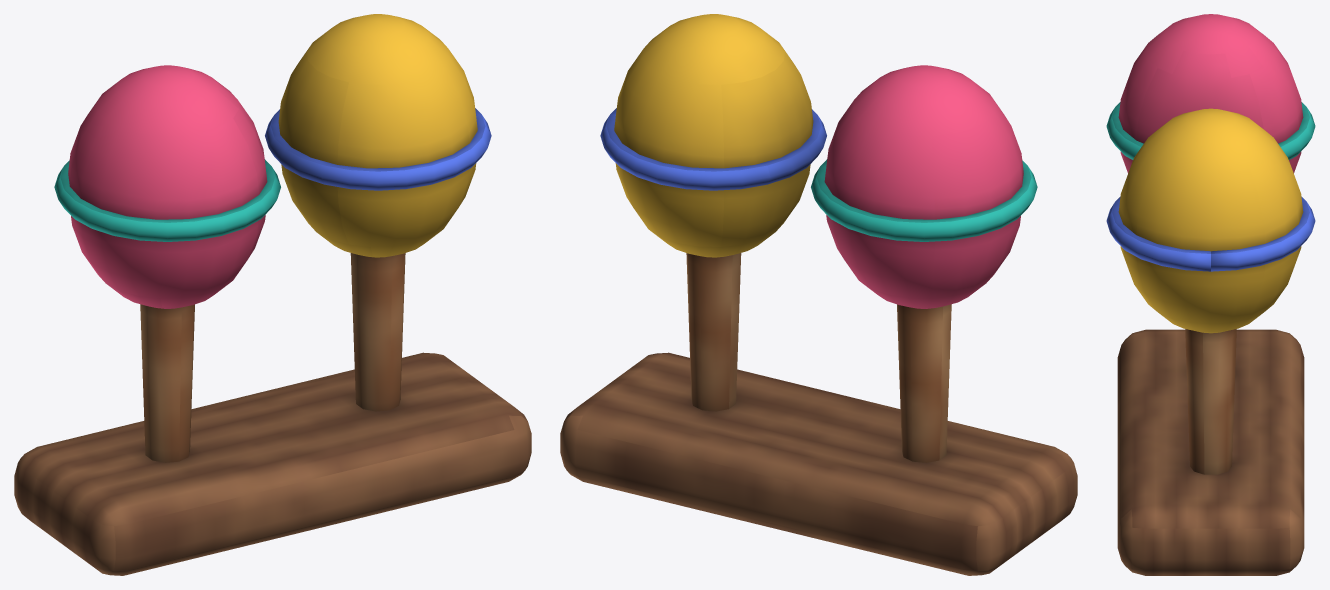
The model's file is Maracas.fbx.
3 renders of one model, left to right at view 1: azimuth 30°, elevation 25°; view 2: azimuth 150°, elevation 25°; view 3: azimuth 270°, elevation 25°, orthographic. The views are drawn at different scales.
Parts seen in each view (by area): view 1: Maracas_Body, Pad_70_Mesh, Pad_82_Mesh; view 2: Maracas_Body, Pad_70_Mesh, Pad_82_Mesh; view 3: Pad_82_Mesh, Maracas_Body, Pad_70_Mesh.
Boxes of the visible parts, box(x1,y1,x2,y2) form: Maracas_Body: box(14, 352, 531, 575); Pad_70_Mesh: box(54, 65, 280, 462); Pad_82_Mesh: box(265, 14, 491, 411); Maracas_Body: box(560, 352, 1077, 575); Pad_70_Mesh: box(811, 65, 1037, 462); Pad_82_Mesh: box(600, 14, 826, 411); Pad_82_Mesh: box(1106, 108, 1315, 474); Maracas_Body: box(1117, 329, 1304, 575); Pad_70_Mesh: box(1106, 14, 1315, 173).
Bounding box in the file's own units: 0.5 × 0.495 × 0.224.
